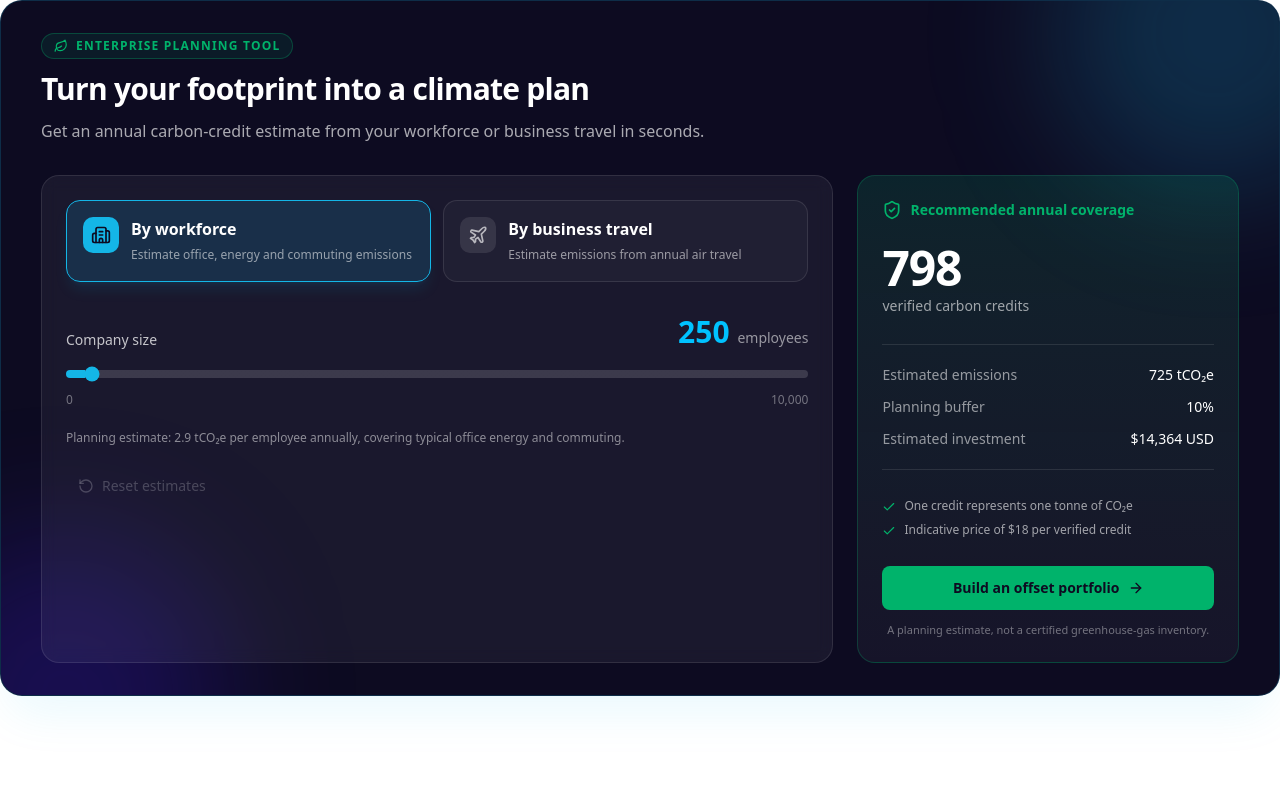
Test: CarbonOffsetCalculator › switches to travel and updates the live estimate from the slider
The image size is (1280, 800).
Click the button "By business travel Estimate emissions from annual air travel" at (626, 241), box [443,200,808,282]
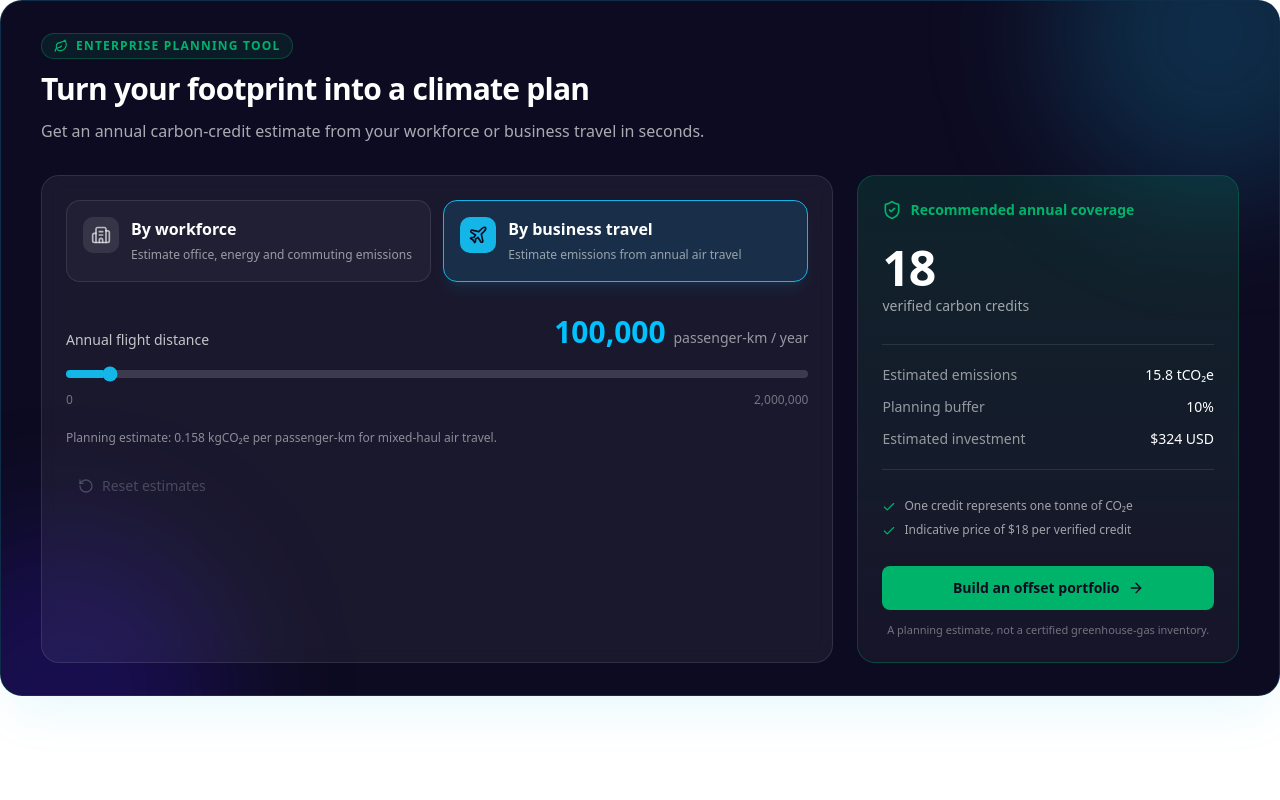
Set the slider labelled "Annual flight distance" to "200000" at (147, 374), box [66,370,808,378]
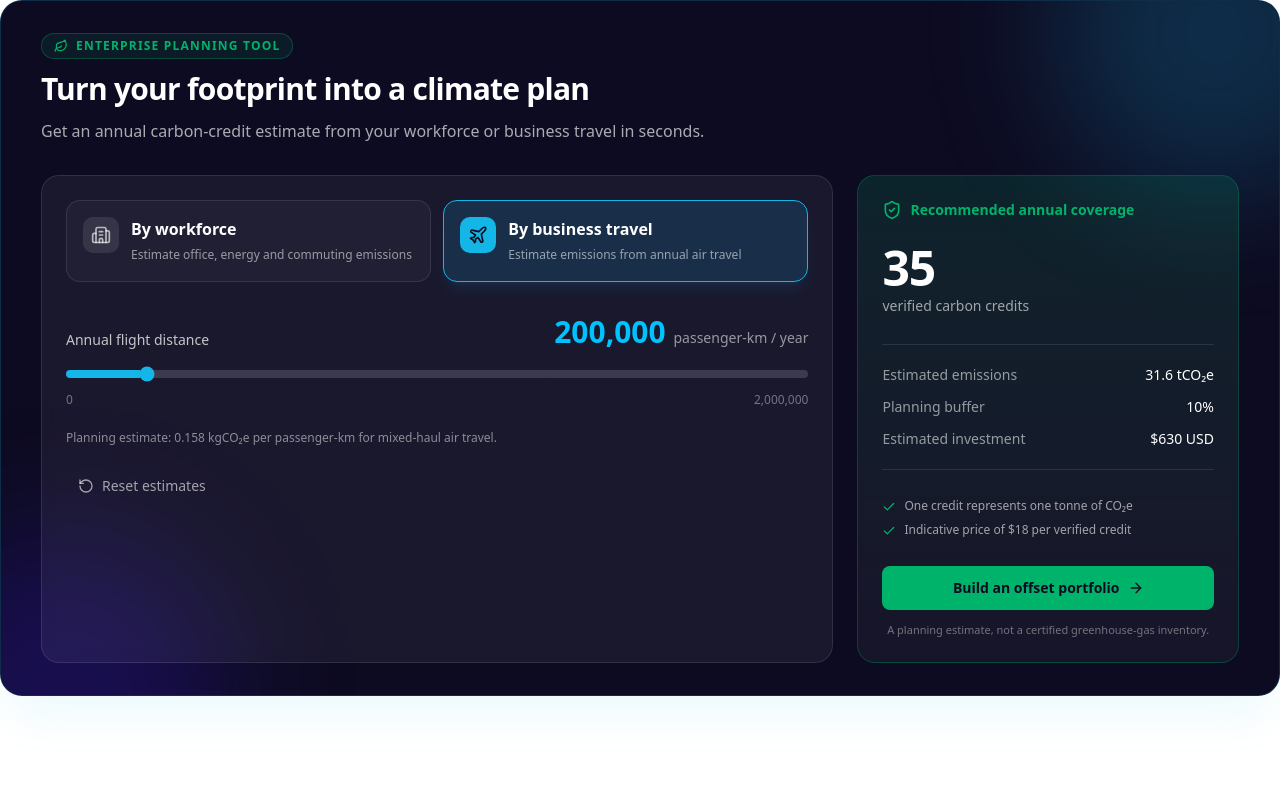
Check: the text "35" is shown, box [882,235,935,300]
Check: the text "31.6 tCO₂e" is shown, box [1145,365,1214,385]
